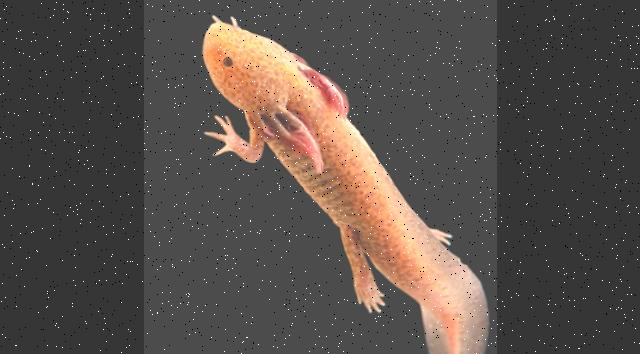Sirip Ekor: (397, 251, 494, 354)
